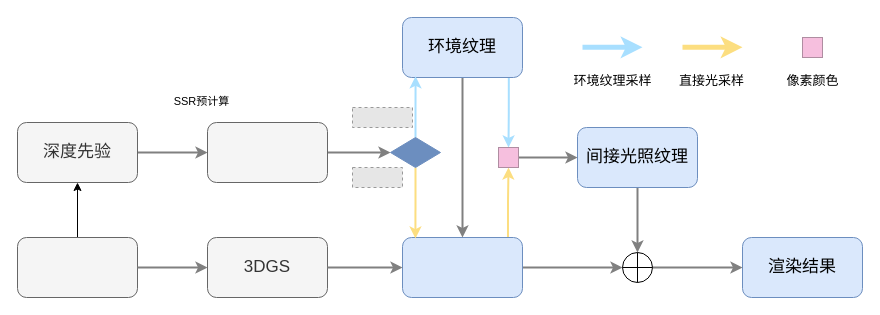
The diagram is 880 pixels wide and 315 high, and some of its shapes have lost their labels. Grey dashed boxes stand in for pictures. Here are the shapes that lost their labels. From the top down, the centre of each, then its label:
At point 267,152: "反射索引图".
At point 77,267: "真实图像".
At point 462,267: "直接光照纹理".
